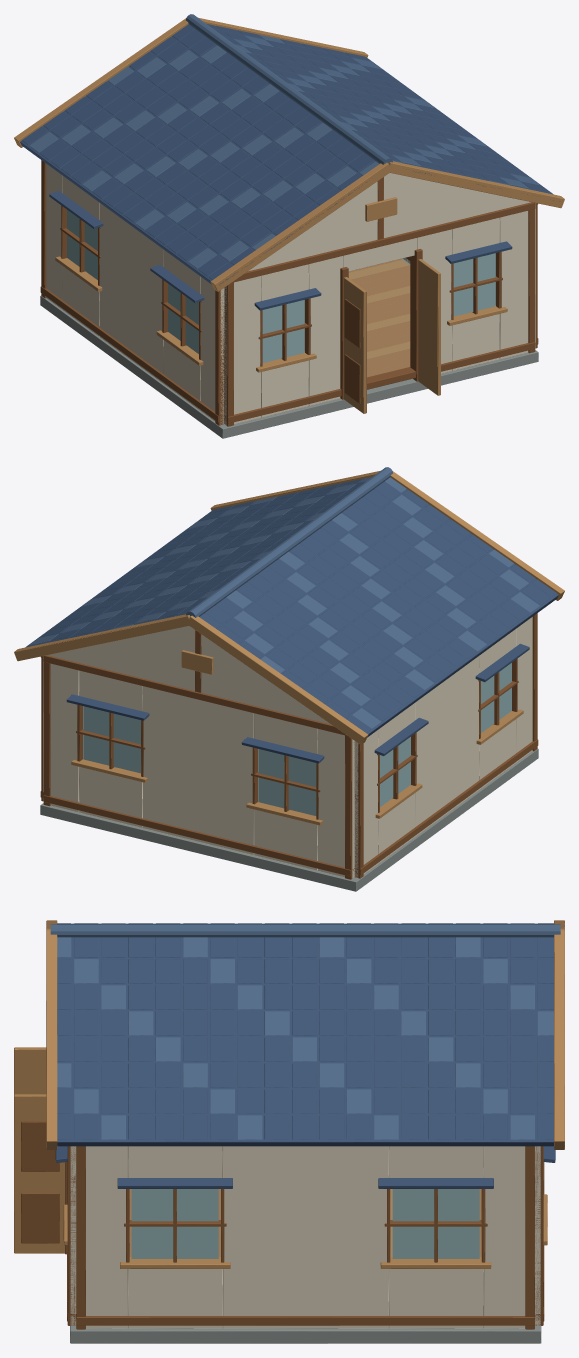
Rendered from AR_Home.glb.
3 views of the same model, one above another, from view 1: azimuth 30°, elevation 25°; view 2: azimuth 150°, elevation 25°; view 3: azimuth 270°, elevation 25° (orthographic). The views are drawn at different scales.
Visible parts, largest first — view 1: AR_Home_Roof_LOD0, AR_Home_South_LOD0, AR_Home_West_LOD0, AR_Home_Floor_LOD0; view 2: AR_Home_Roof_LOD0, AR_Home_North_LOD0, AR_Home_West_LOD0, AR_Home_Floor_LOD0; view 3: AR_Home_Roof_LOD0, AR_Home_East_LOD0, AR_Home_South_LOD0, AR_Home_Floor_LOD0, AR_Home_North_LOD0.
Boxes of the visible parts, box(x1,y1,x2,y2) form: AR_Home_Roof_LOD0: box(14, 14, 564, 291); AR_Home_South_LOD0: box(224, 173, 535, 426); AR_Home_West_LOD0: box(40, 160, 224, 425); AR_Home_Floor_LOD0: box(40, 258, 538, 438); AR_Home_Roof_LOD0: box(14, 467, 564, 744); AR_Home_North_LOD0: box(43, 626, 354, 879); AR_Home_West_LOD0: box(354, 613, 538, 878); AR_Home_Floor_LOD0: box(40, 749, 538, 891); AR_Home_Roof_LOD0: box(46, 920, 564, 1149); AR_Home_East_LOD0: box(76, 1146, 534, 1329); AR_Home_South_LOD0: box(14, 1047, 76, 1325); AR_Home_Floor_LOD0: box(70, 1189, 541, 1343); AR_Home_North_LOD0: box(535, 1146, 555, 1325).
Size of the model in its own units: 6.61 by 4.45 by 6.97.
Materials: 1 (1 with a texture image).
